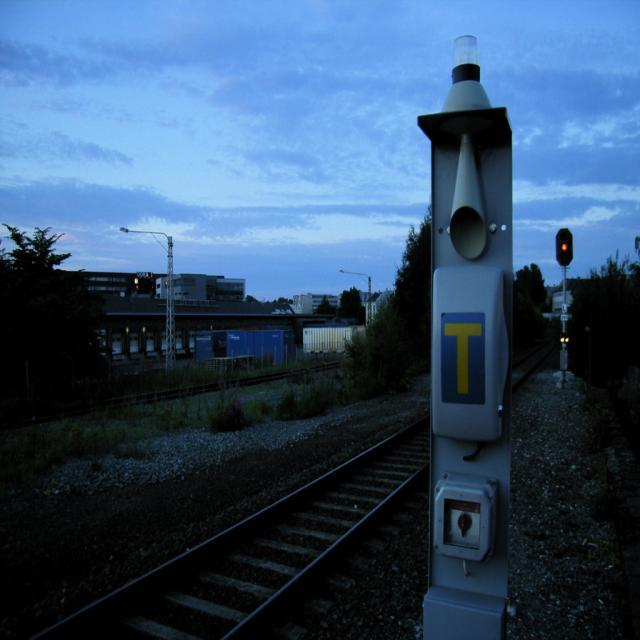traffic light: (555, 225, 575, 268)
